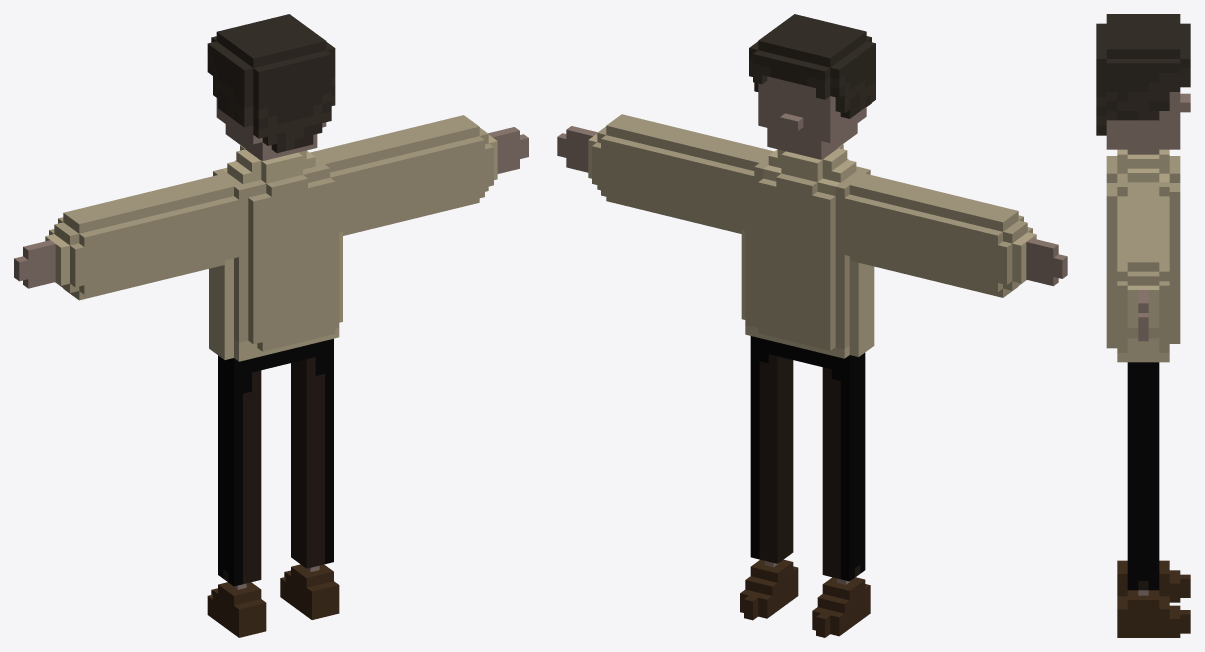
Rendered from Character.obj.
The picture shows the model from 3 angles, left to right: view 1: azimuth 30°, elevation 25°; view 2: azimuth 150°, elevation 25°; view 3: azimuth 270°, elevation 25°; orthographic projection.
Bounding box in the file's own units: 5.6 × 6.1 × 0.9.
1 material, 1 textured.
